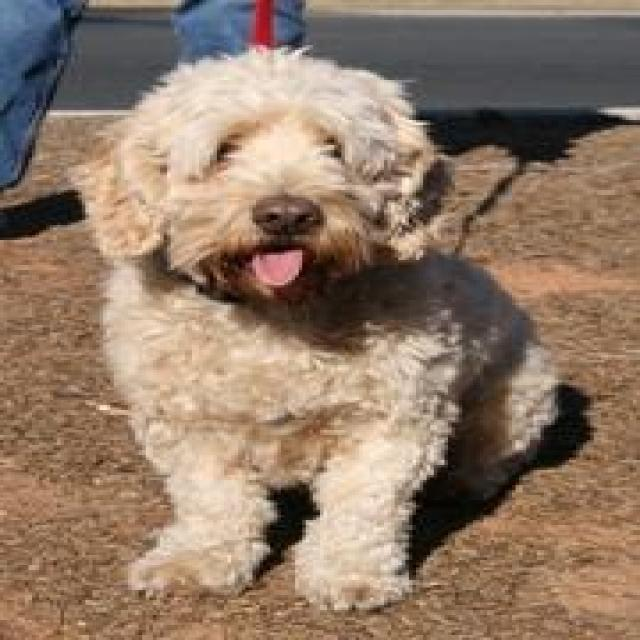dandie_dinmont: (71, 48, 558, 612)
